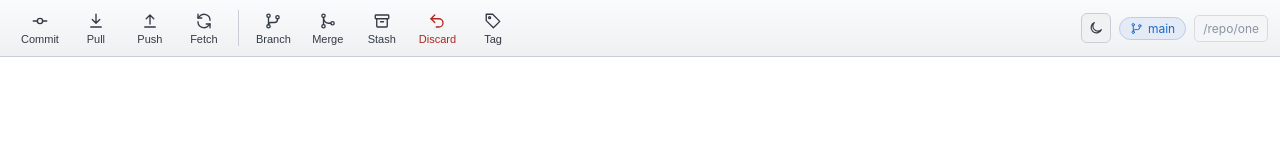
it: Toolbar remote operations › shows the running operation as busy and disables Fetch, Pull and Push until it ends
Click the button "Fetch". click: (204, 28)
box: top-left (178, 6), bottom-right (230, 50)
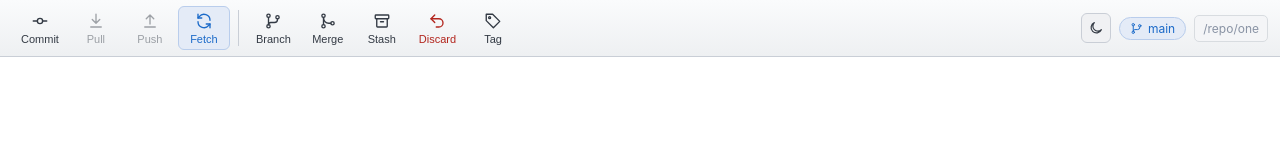
Expected: the button "Fetch" is disabled
Expected: the button "Pull" is disabled, top-left (70, 6), bottom-right (122, 50)
Expected: the button "Push" is disabled, top-left (124, 6), bottom-right (176, 50)
Click the button "Fetch". click: (204, 28)
box: top-left (178, 6), bottom-right (230, 50)
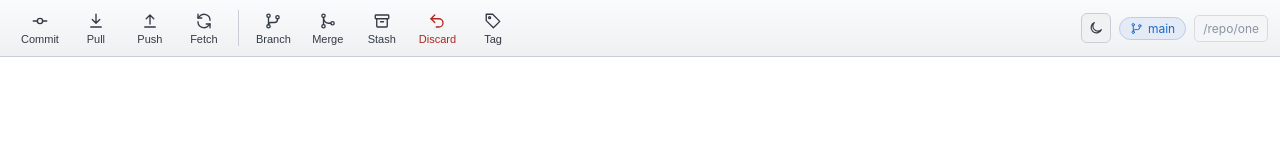
Expected: the button "Fetch" is enabled, top-left (178, 6), bottom-right (230, 50)
